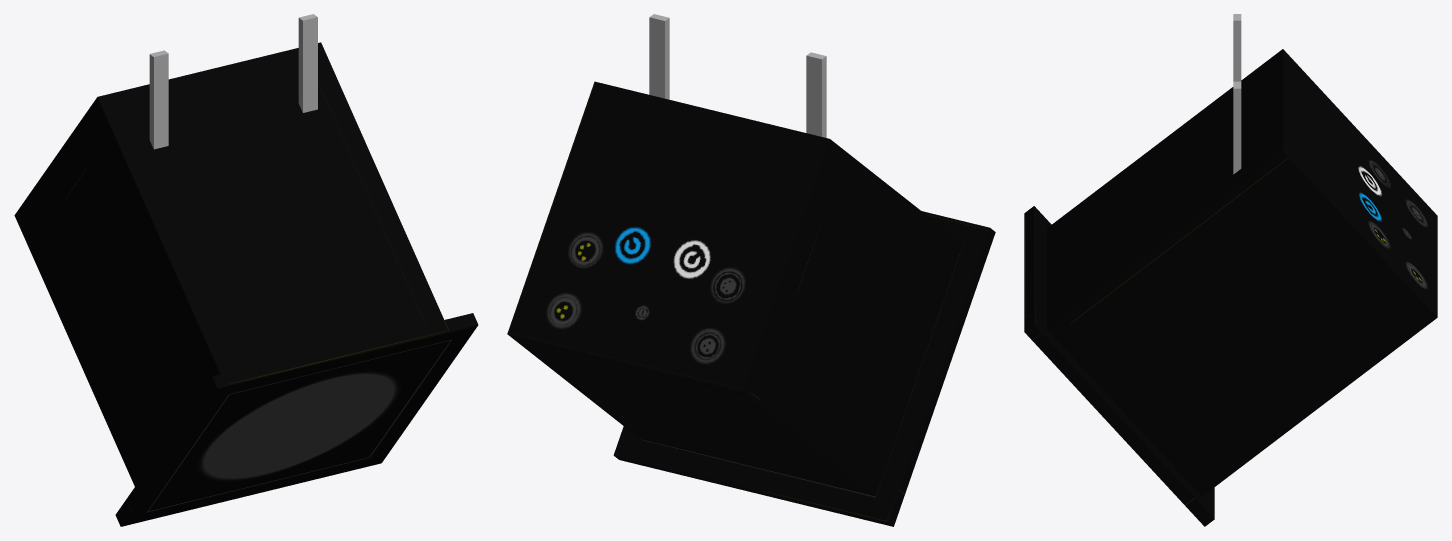
The model's file is obj_SuspenLight.fbx.
3 views of the same model, side by side, from view 1: azimuth 30°, elevation 25°; view 2: azimuth 150°, elevation 25°; view 3: azimuth 270°, elevation 25° (orthographic). The views are drawn at different scales.
Visible parts, largest first — view 1: pCube190, pCube485, pCube486; view 2: pCube190, pCube486, pCube485; view 3: pCube190, pCube486, pCube485.
Boxes of the visible parts, x1=… form: pCube190: x1=14, y1=42, x2=478, y2=526; pCube485: x1=149, y1=50, x2=168, y2=149; pCube486: x1=298, y1=14, x2=317, y2=112; pCube190: x1=507, y1=81, x2=995, y2=526; pCube486: x1=649, y1=14, x2=669, y2=99; pCube485: x1=806, y1=52, x2=826, y2=137; pCube190: x1=1024, y1=49, x2=1437, y2=526; pCube486: x1=1233, y1=81, x2=1241, y2=174; pCube485: x1=1233, y1=14, x2=1241, y2=81.
Size of the model in its own units: 0.007 by 0.0115 by 0.0103.
2 materials, 1 textured.
